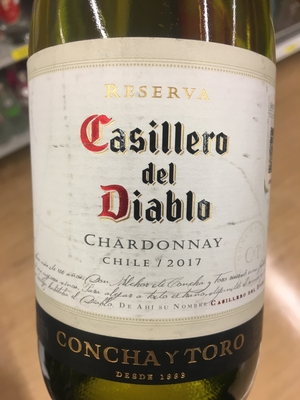casillero del diablo chardonnay: (24, 8, 273, 400)
